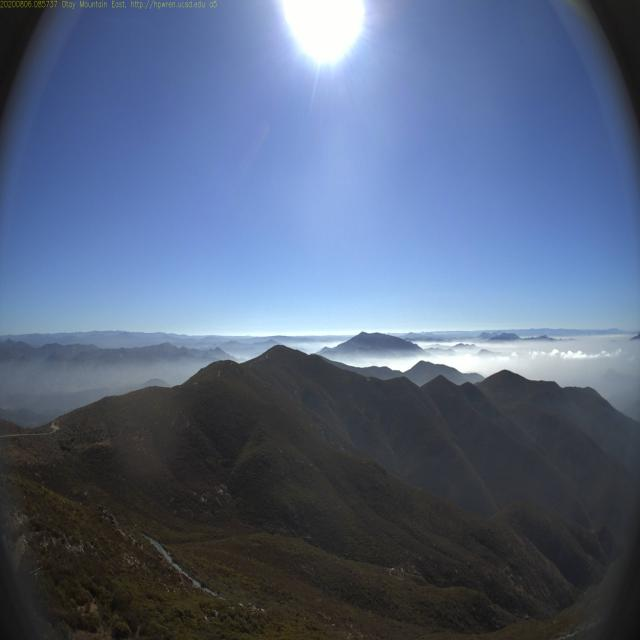smoke: (353, 348, 362, 358)
